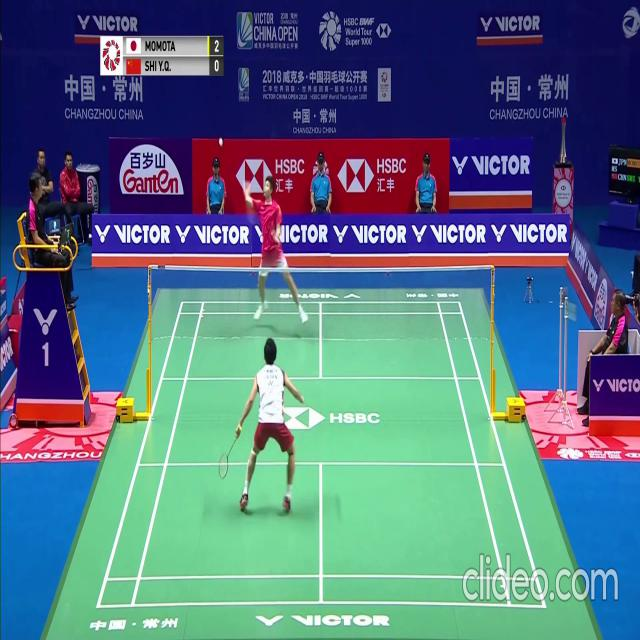Shuttlecock: (218, 137, 223, 145)
